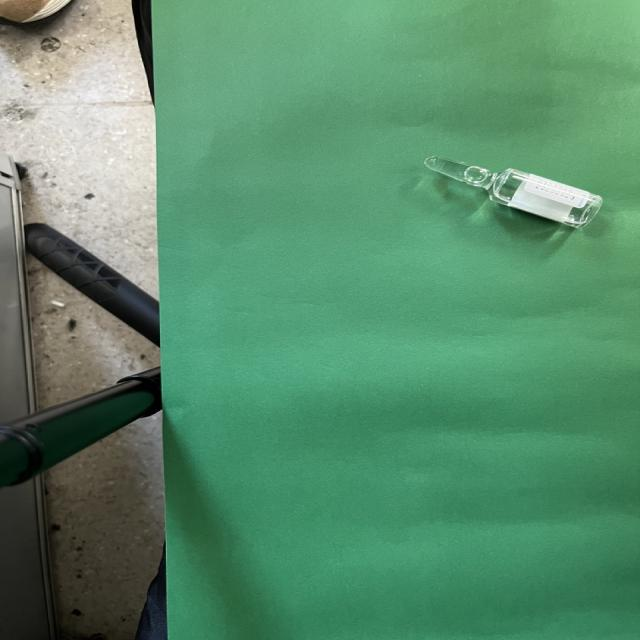Ampoules: (423, 156, 603, 229)
